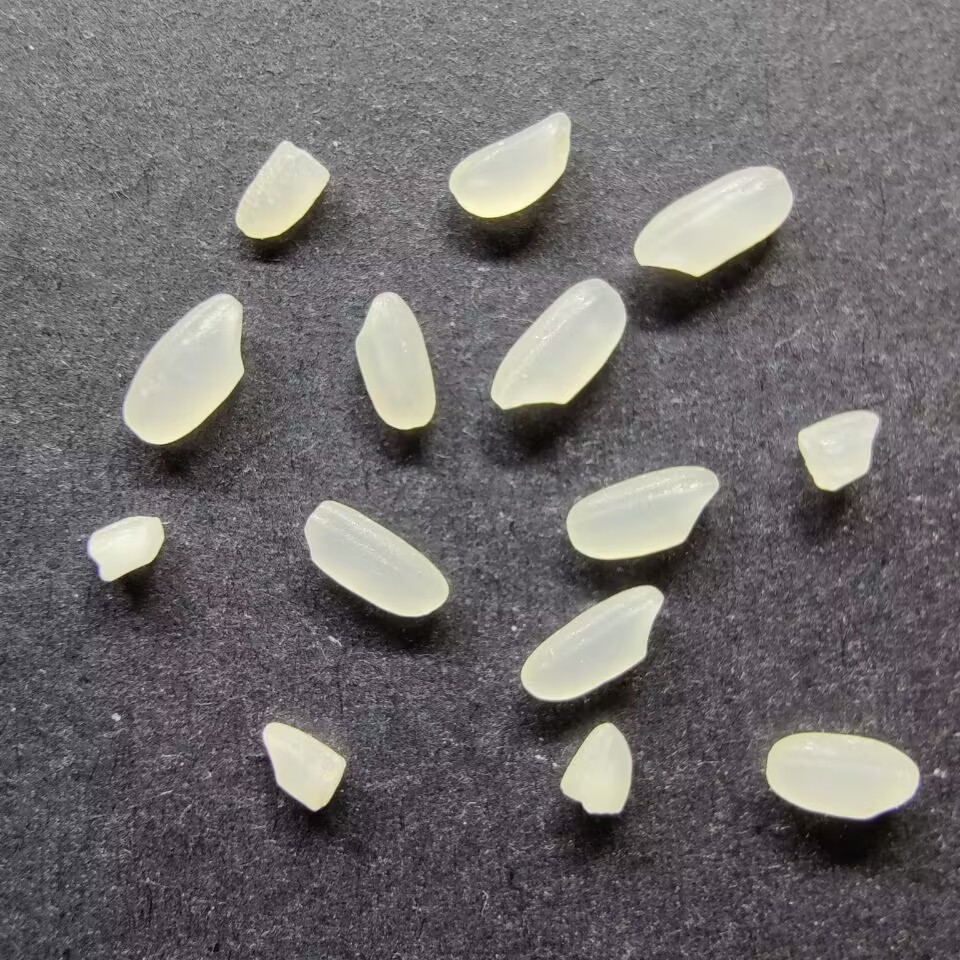broken: (232, 138, 333, 240), (258, 721, 347, 812), (793, 409, 883, 494), (556, 722, 636, 817), (85, 514, 166, 585)
rice: (120, 291, 247, 446), (487, 276, 627, 411), (631, 164, 795, 279), (301, 498, 450, 618), (518, 581, 664, 702), (564, 464, 722, 561), (763, 730, 921, 822), (446, 110, 572, 220), (352, 290, 438, 431)
